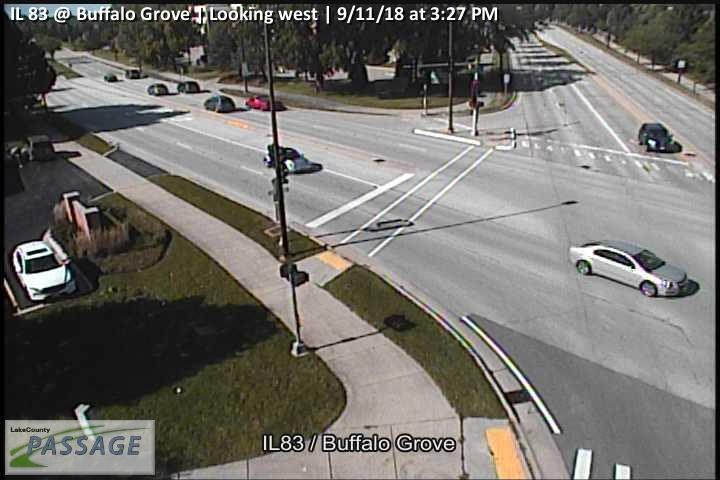SUV: (13, 241, 75, 304), (638, 124, 673, 152), (204, 95, 236, 113), (177, 80, 200, 94), (146, 83, 168, 96)
Sedan: (569, 238, 687, 297), (263, 144, 312, 173), (244, 95, 282, 111)
